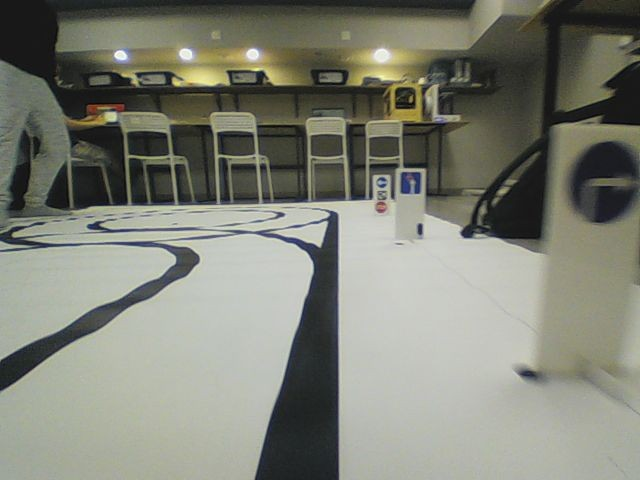Right: (567, 140, 640, 226)
priority_movement: (399, 170, 422, 196)
